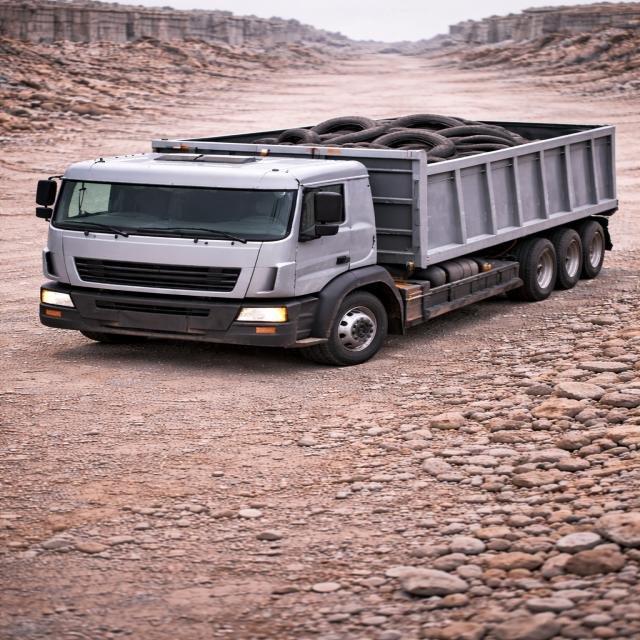trailer: (159, 117, 617, 160)
truck: (27, 103, 624, 360)
